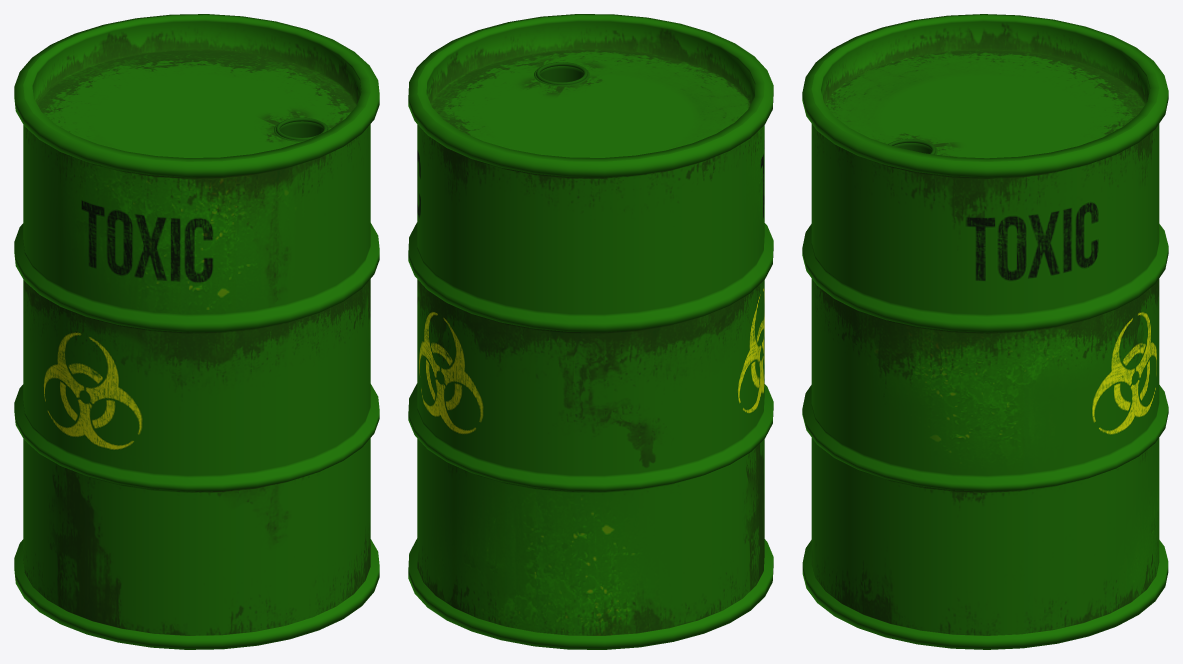
The model's file is barrel.obj.
3 renders of one model, left to right at view 1: azimuth 30°, elevation 25°; view 2: azimuth 150°, elevation 25°; view 3: azimuth 270°, elevation 25°, orthographic.
Parts seen in each view (by area): view 1: barrel.obj; view 2: barrel.obj; view 3: barrel.obj.
Part boxes in pixels (x1,y1,x2,y2): barrel.obj: [14, 14, 379, 649]; barrel.obj: [408, 14, 773, 649]; barrel.obj: [802, 14, 1168, 649].
Bounding box in the file's own units: 121 × 177 × 121.
Materials: 1 (1 with a texture image).
